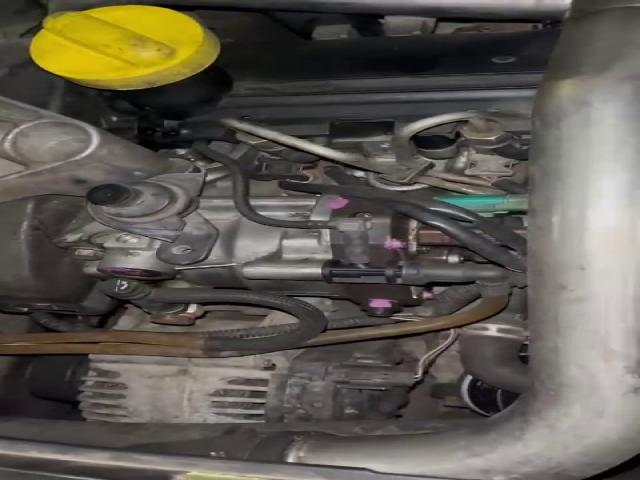alternator: (75, 342, 423, 423)
high_pressure_pump: (63, 189, 465, 317)
